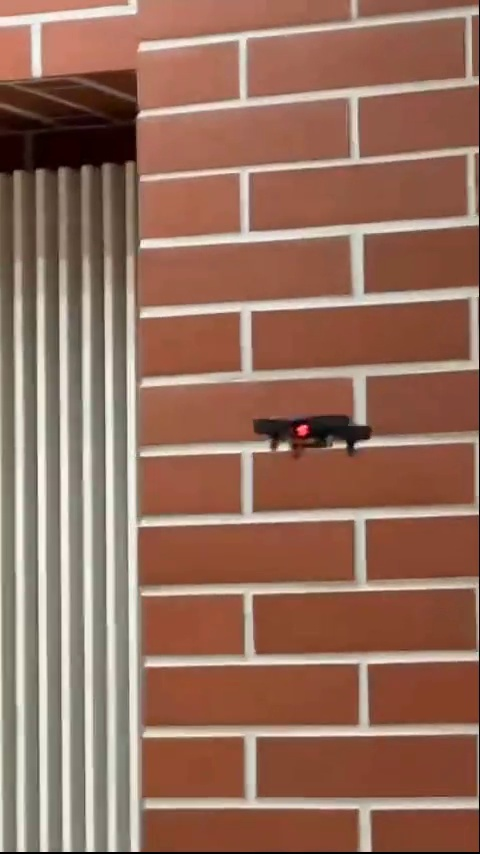drone: (246, 403, 372, 458)
